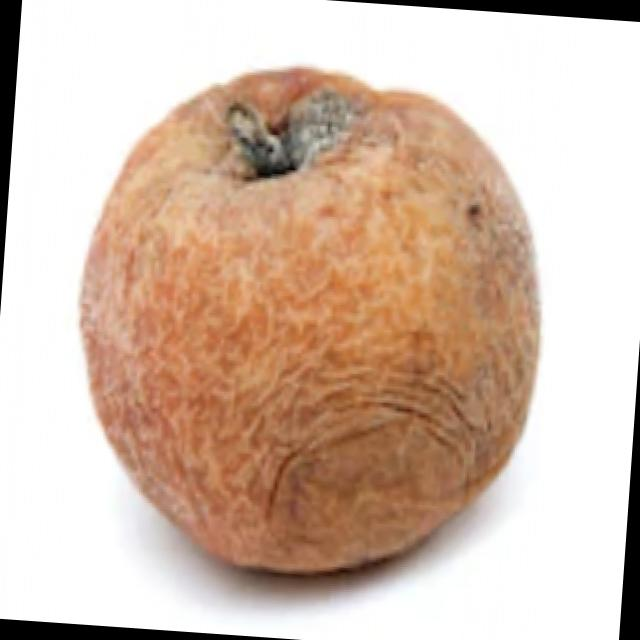rotten_apple: (56, 52, 558, 596)
